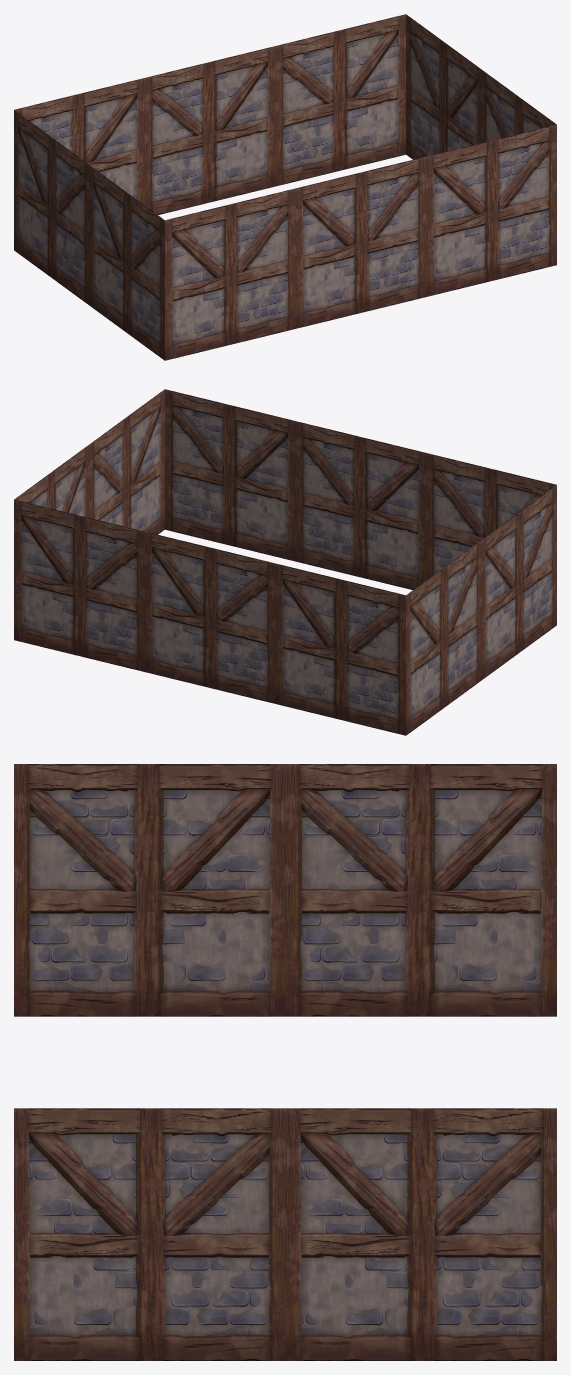
Rendered from wall_rejunte_base2x3.fbx.
3 renders of one model, top to bottom at view 1: azimuth 30°, elevation 25°; view 2: azimuth 150°, elevation 25°; view 3: azimuth 270°, elevation 25°, orthographic. The views are drawn at different scales.
Parts seen in each view (by area): view 1: parede_rejunte_base2x3; view 2: parede_rejunte_base2x3; view 3: parede_rejunte_base2x3.
Boxes of the visible parts, left/top/right/bottom form: parede_rejunte_base2x3: left=14, top=14, right=556, bottom=360; parede_rejunte_base2x3: left=14, top=389, right=556, bottom=735; parede_rejunte_base2x3: left=14, top=764, right=556, bottom=1360.
Size of the model in its own units: 449 by 154 by 299.
